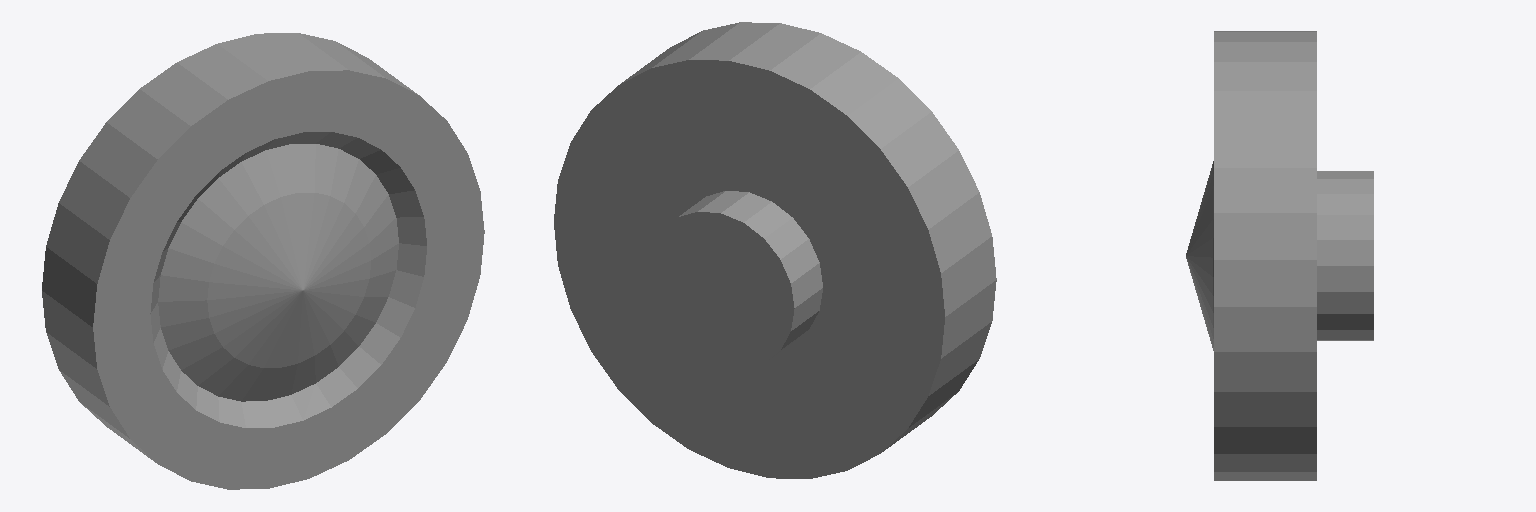
File: rightWheel.obj
The picture shows the model from 3 angles: view 1: azimuth 30°, elevation 25°; view 2: azimuth 150°, elevation 25°; view 3: azimuth 270°, elevation 25°; orthographic projection.
Parts seen in each view (by area): view 1: rightWheel; view 2: rightWheel; view 3: rightWheel.
Part boxes in pixels (x1,y1,x2,y2): rightWheel: (42,33,484,489); rightWheel: (554,22,996,478); rightWheel: (1186,31,1373,480).
Bounding box in the file's own units: 0.086 × 0.0855 × 0.0359.